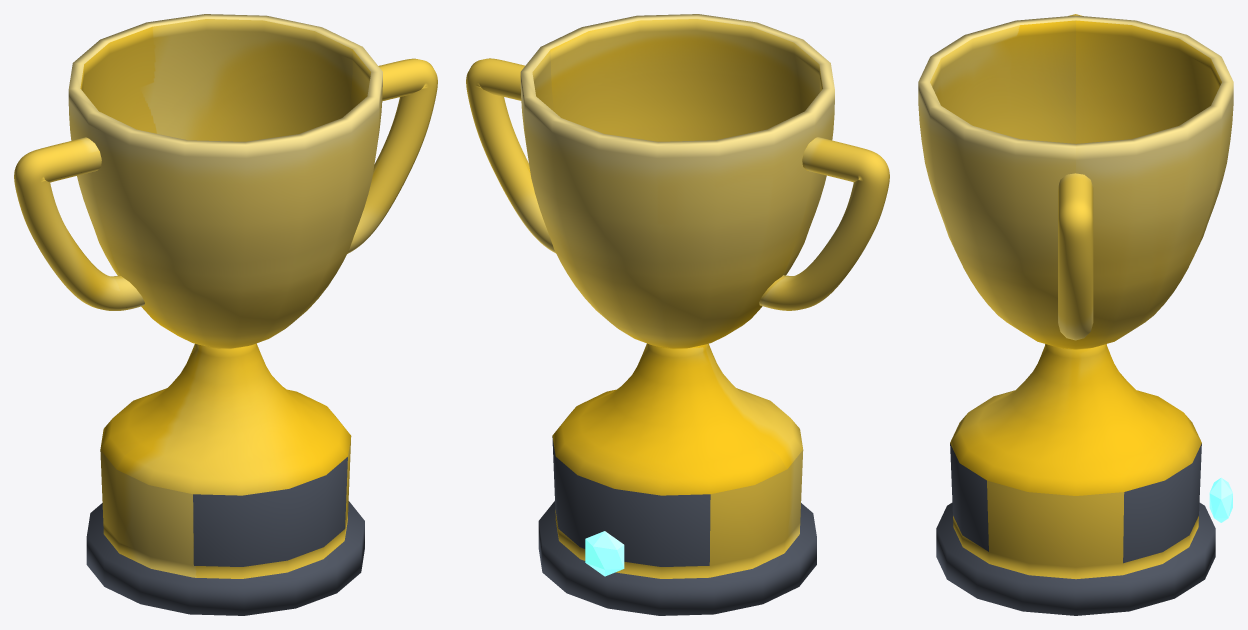
File: event_pokal_casual.glb
The picture shows the model from 3 angles, left to right: view 1: azimuth 30°, elevation 25°; view 2: azimuth 150°, elevation 25°; view 3: azimuth 270°, elevation 25°; orthographic projection.
Visible parts, largest first — view 1: NurbsPath_Material.001_0, NurbsPath_Material.002_0; view 2: NurbsPath_Material.001_0, NurbsPath_Material.002_0, CategoryGem; view 3: NurbsPath_Material.001_0, NurbsPath_Material.002_0, CategoryGem.
Boxes of the visible parts, box(x1,y1,x2,y2) form: NurbsPath_Material.001_0: box(14, 14, 437, 578); NurbsPath_Material.002_0: box(86, 457, 364, 615); NurbsPath_Material.001_0: box(466, 14, 889, 578); NurbsPath_Material.002_0: box(538, 436, 816, 615); CategoryGem: box(585, 531, 624, 576); NurbsPath_Material.001_0: box(918, 14, 1233, 579); NurbsPath_Material.002_0: box(936, 443, 1215, 615); CategoryGem: box(1209, 477, 1232, 522).
Bounding box in the file's own units: 1.72 × 1.88 × 1.13.
3 materials, 1 textured.
